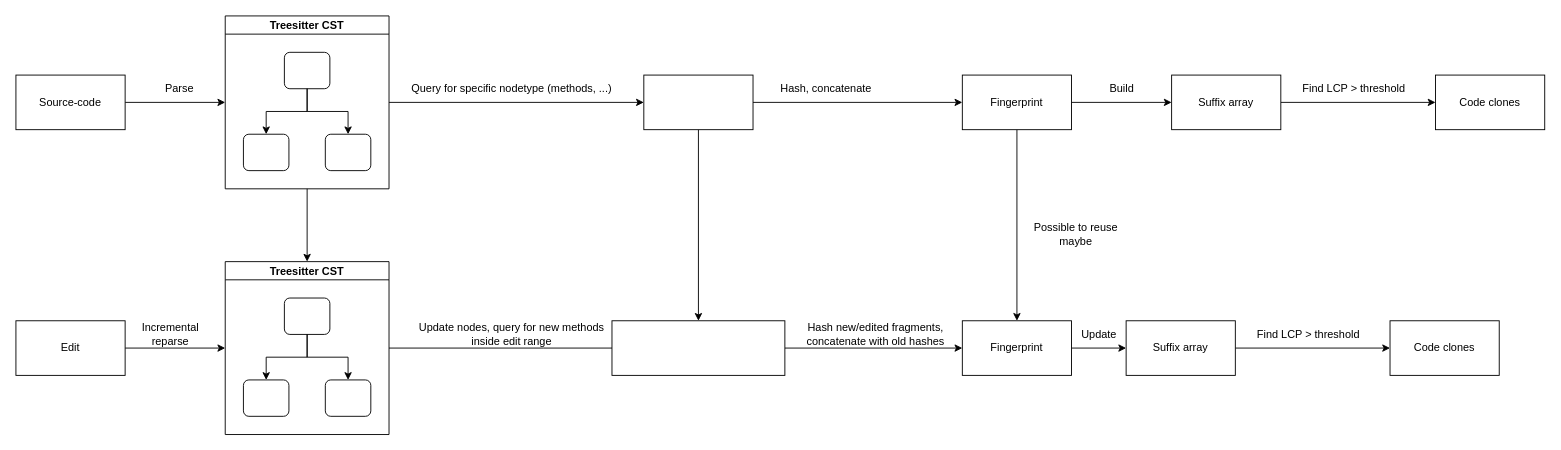
The diagram is 1561 pixels wide and 450 high, and some of its shapes have lost their labels. The shapes that lost their labels are listed below. From the top down, each one's centre as x and y in pixels, then its label:
At pixel 698 102: "Fragments".
At pixel 698 347: "Fragments (with info on new/old)".
